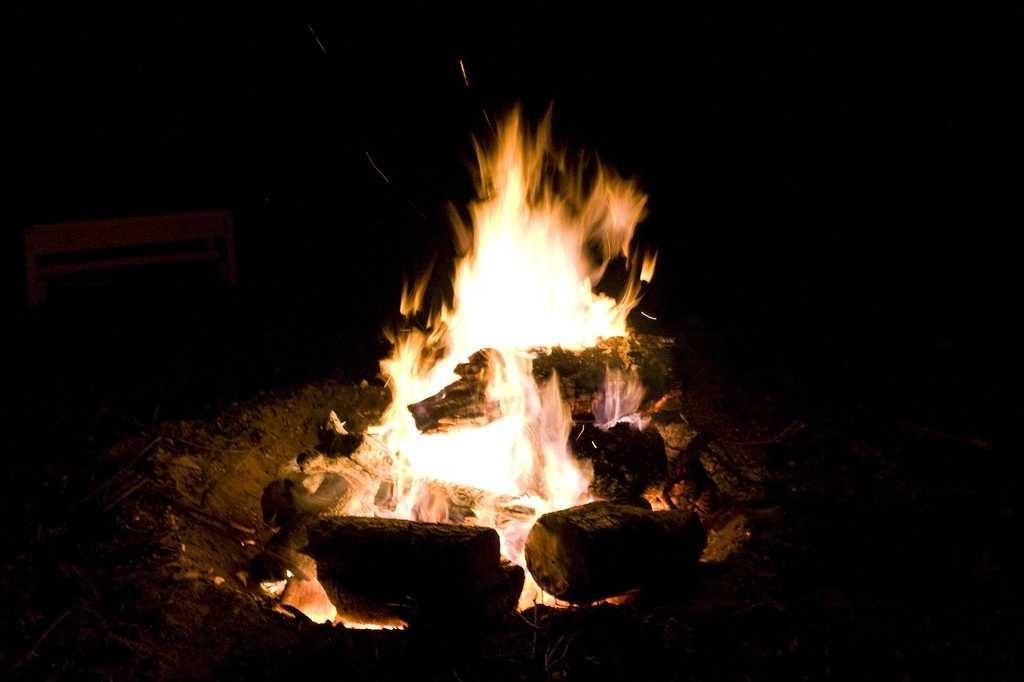fire: (457, 233, 582, 345), (417, 427, 523, 482)
